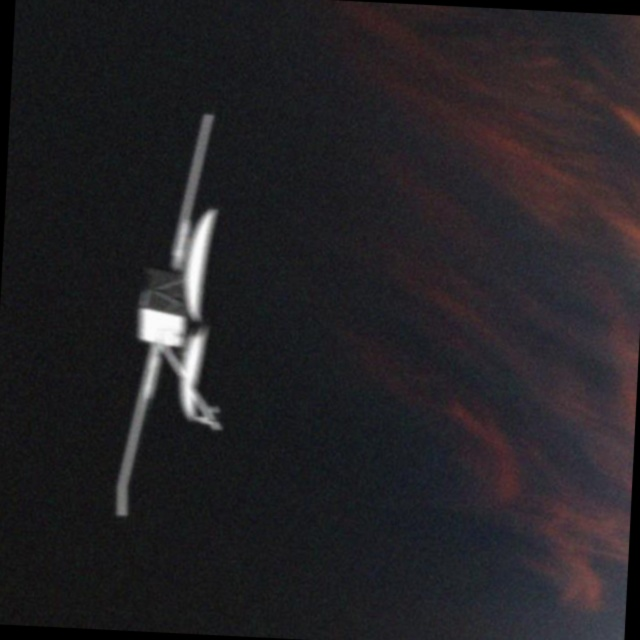satellite: (84, 93, 257, 530)
